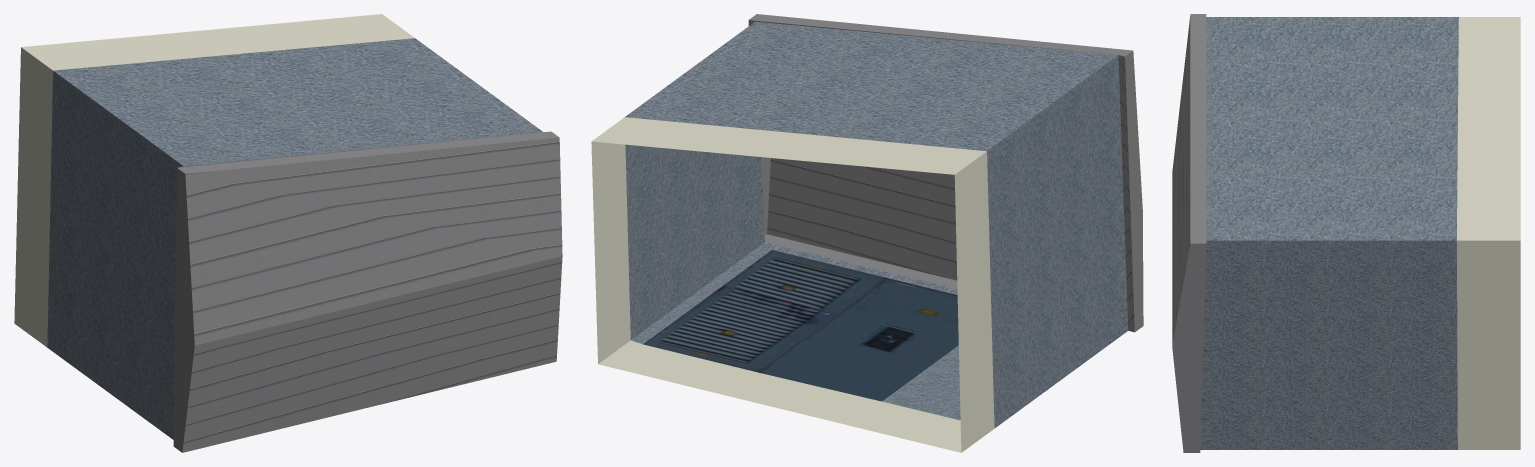
Rendered from Ryytli15-origo.obj.
3 renders of one model, left to right at view 1: azimuth 30°, elevation 25°; view 2: azimuth 150°, elevation 25°; view 3: azimuth 270°, elevation 25°, orthographic. The views are drawn at different scales.
Visible parts, largest first — view 1: polySurface2; view 2: polySurface2; view 3: polySurface2.
Part boxes in pixels (bbox=[...]): polySurface2: bbox=[14, 14, 562, 452]; polySurface2: bbox=[591, 14, 1143, 452]; polySurface2: bbox=[1172, 14, 1520, 452].
Size of the model in its own units: 3.62 by 2.5 by 2.97.
